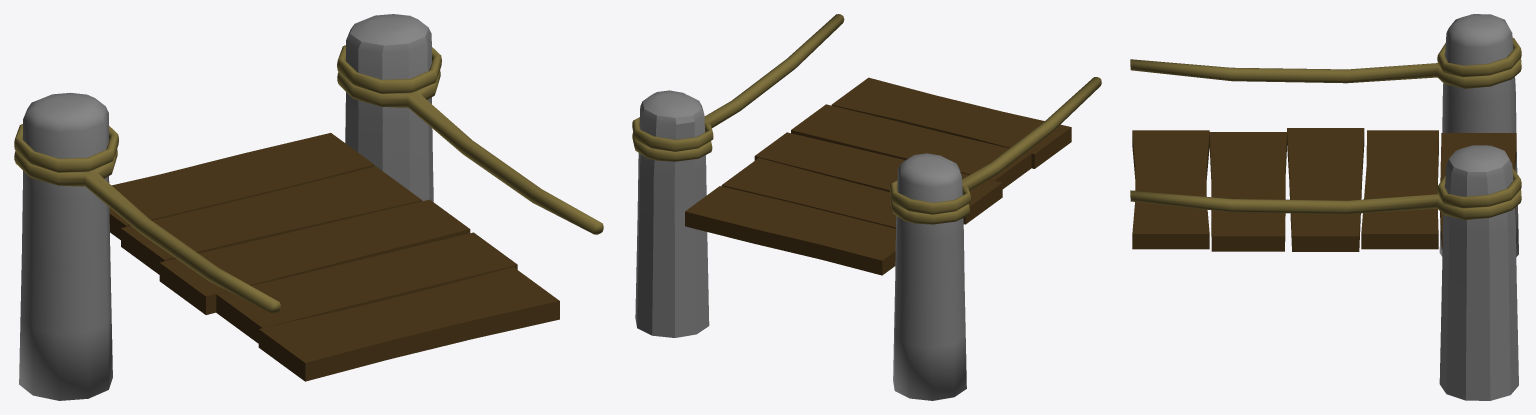
Rendered from SingularDockObject 1.fbx.
The picture shows the model from 3 angles, left to right: view 1: azimuth 30°, elevation 25°; view 2: azimuth 150°, elevation 25°; view 3: azimuth 270°, elevation 25°; orthographic projection. The views are drawn at different scales.
Parts seen in each view (by area): view 1: DockPillar017, DockPlanks021, DockPlanks018, DockPlanks020, DockPlanks019, DockPillar018, DockPlanks017, RopeDock051, RopeDock052, RopeDock045, RopeDock050; view 2: DockPillar017, DockPillar018, DockPlanks017, DockPlanks021, DockPlanks020, DockPlanks019, DockPlanks018, RopeDock051, RopeDock052, RopeDock045, RopeDock050; view 3: DockPillar018, DockPlanks021, DockPlanks018, DockPlanks020, DockPlanks019, DockPillar017, RopeDock051, RopeDock052, DockPlanks017, RopeDock045, RopeDock050.
Part boxes in pixels (x1,y1,x2,y2): DockPillar017: [19, 92, 112, 400]; DockPlanks021: [258, 267, 559, 381]; DockPlanks018: [159, 199, 470, 314]; DockPlanks020: [216, 232, 517, 343]; DockPlanks019: [121, 166, 422, 274]; DockPillar018: [345, 14, 433, 201]; DockPlanks017: [109, 133, 374, 239]; RopeDock051: [337, 70, 603, 234]; RopeDock052: [14, 149, 280, 313]; RopeDock045: [14, 124, 118, 172]; RopeDock050: [337, 45, 441, 93]; DockPillar017: [893, 153, 966, 400]; DockPillar018: [635, 90, 709, 337]; DockPlanks017: [685, 186, 895, 275]; DockPlanks021: [831, 77, 1071, 168]; DockPlanks020: [791, 104, 1031, 188]; DockPlanks019: [721, 158, 896, 228]; DockPlanks018: [754, 132, 1002, 224]; RopeDock051: [632, 14, 844, 161]; RopeDock052: [890, 77, 1101, 224]; RopeDock045: [889, 180, 970, 214]; RopeDock050: [632, 117, 713, 151]; DockPillar018: [1439, 145, 1518, 400]; DockPlanks021: [1132, 130, 1209, 249]; DockPlanks018: [1287, 128, 1364, 251]; DockPlanks020: [1209, 132, 1286, 251]; DockPlanks019: [1361, 130, 1438, 249]; DockPillar017: [1439, 14, 1518, 256]; RopeDock051: [1130, 189, 1521, 219]; RopeDock052: [1130, 58, 1521, 88]; DockPlanks017: [1440, 133, 1516, 249]; RopeDock045: [1437, 38, 1521, 77]; RopeDock050: [1437, 169, 1521, 208].
Bounding box in the file's own units: 161 × 160 × 105.
